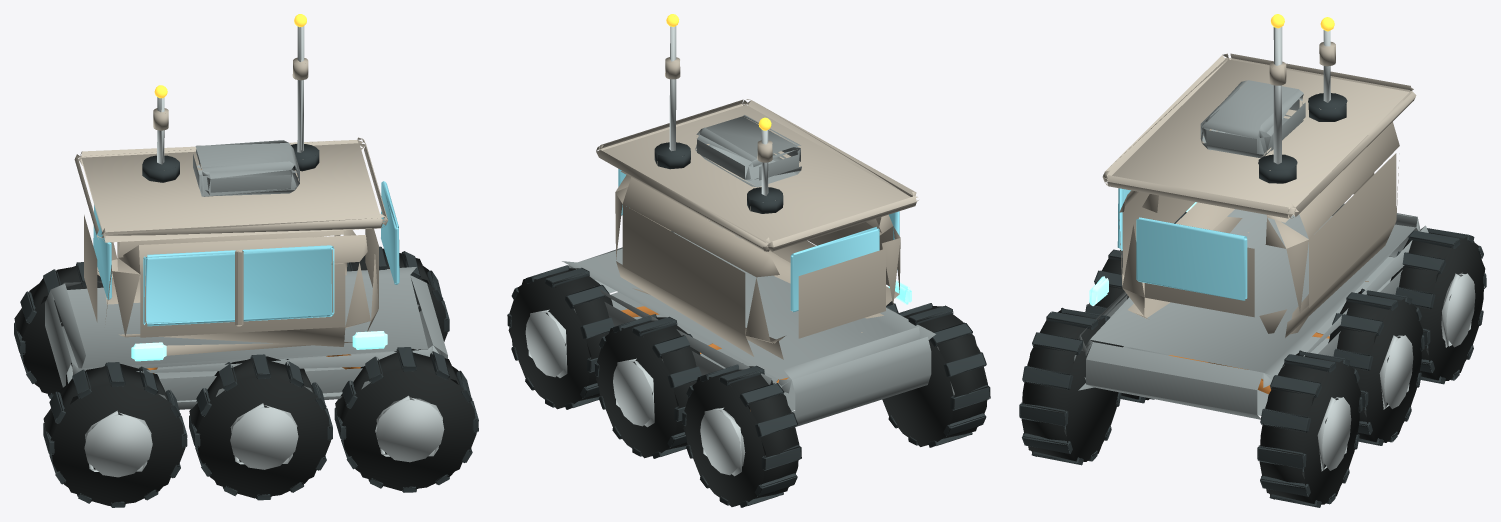
The model's file is rover.glb.
3 renders of one model, left to right at view 1: azimuth 30°, elevation 25°; view 2: azimuth 150°, elevation 25°; view 3: azimuth 270°, elevation 25°, orthographic. The views are drawn at different scales.
Parts seen in each view (by area): view 1: rover; view 2: rover; view 3: rover.
Part boxes in pixels (x1=…): rover: x1=14, y1=14, x2=478, y2=507; rover: x1=507, y1=14, x2=990, y2=507; rover: x1=1019, y1=14, x2=1486, y2=507.
Size of the model in its own units: 3.99 by 3.47 by 3.38.
